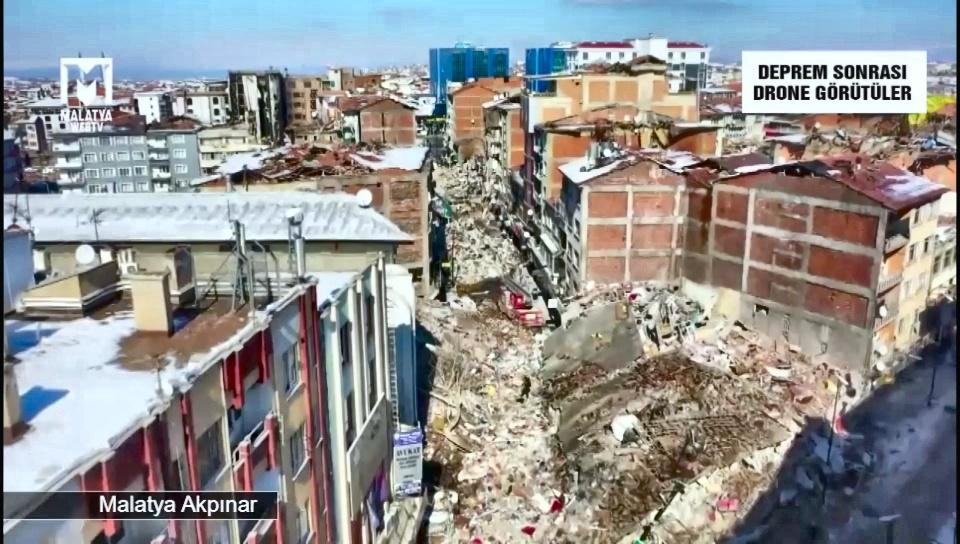kapali: (419, 286, 594, 543), (433, 164, 525, 284)
